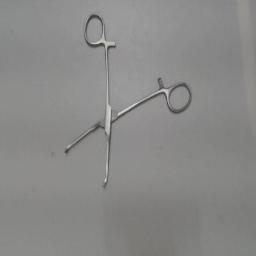Allis Tissue Forceps: (58, 9, 196, 197)
